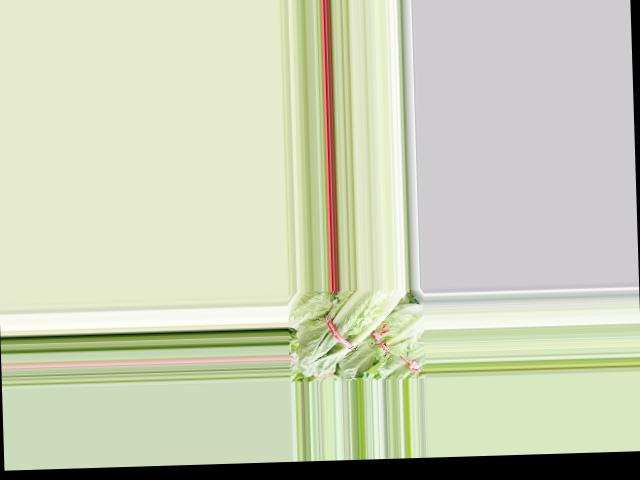lettuce: (293, 287, 406, 378)
